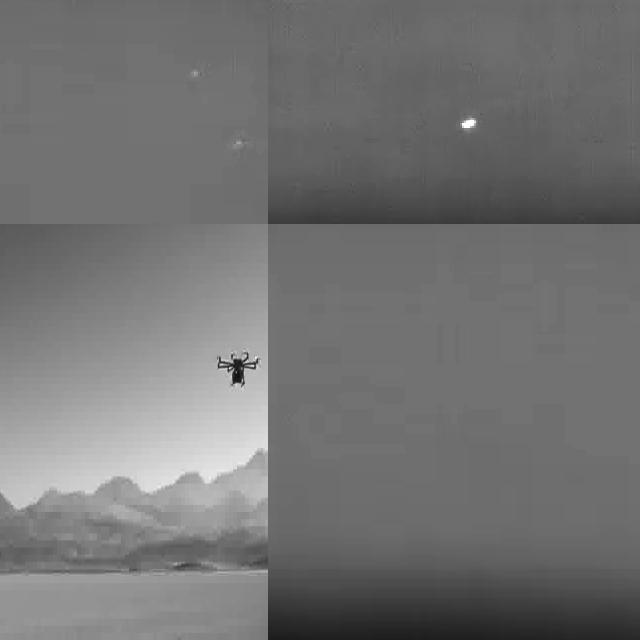0: (231, 131, 255, 159), (184, 62, 210, 86)
1: (453, 112, 489, 142)
drone: (215, 348, 262, 390)
